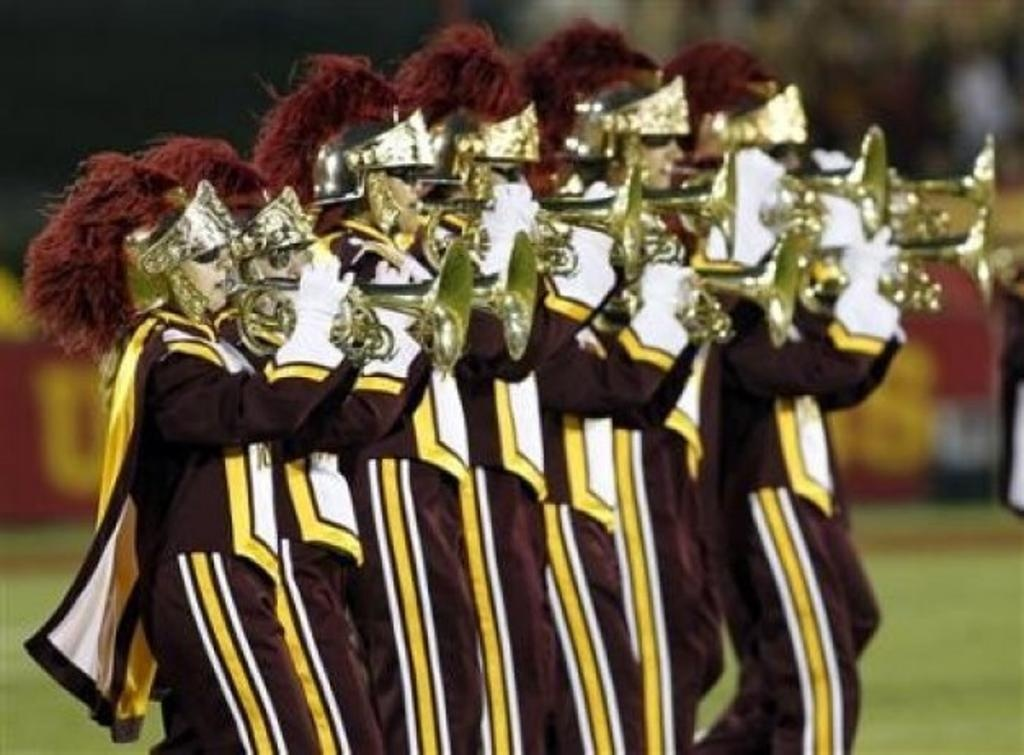human_face: (629, 110, 685, 190), (362, 156, 422, 229), (248, 234, 306, 308), (744, 138, 800, 214), (178, 238, 232, 310), (468, 153, 520, 225)
